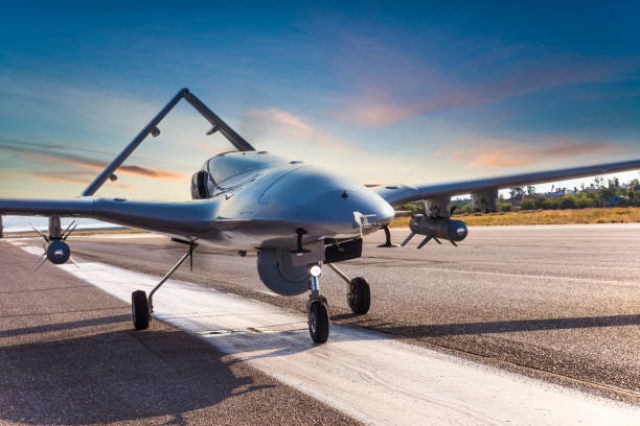military drone: (0, 87, 640, 343)
